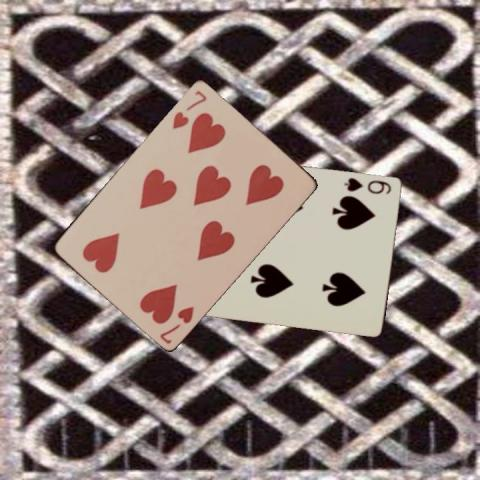6s: (342, 175, 394, 195)
7h: (169, 86, 208, 130), (157, 303, 195, 345)
